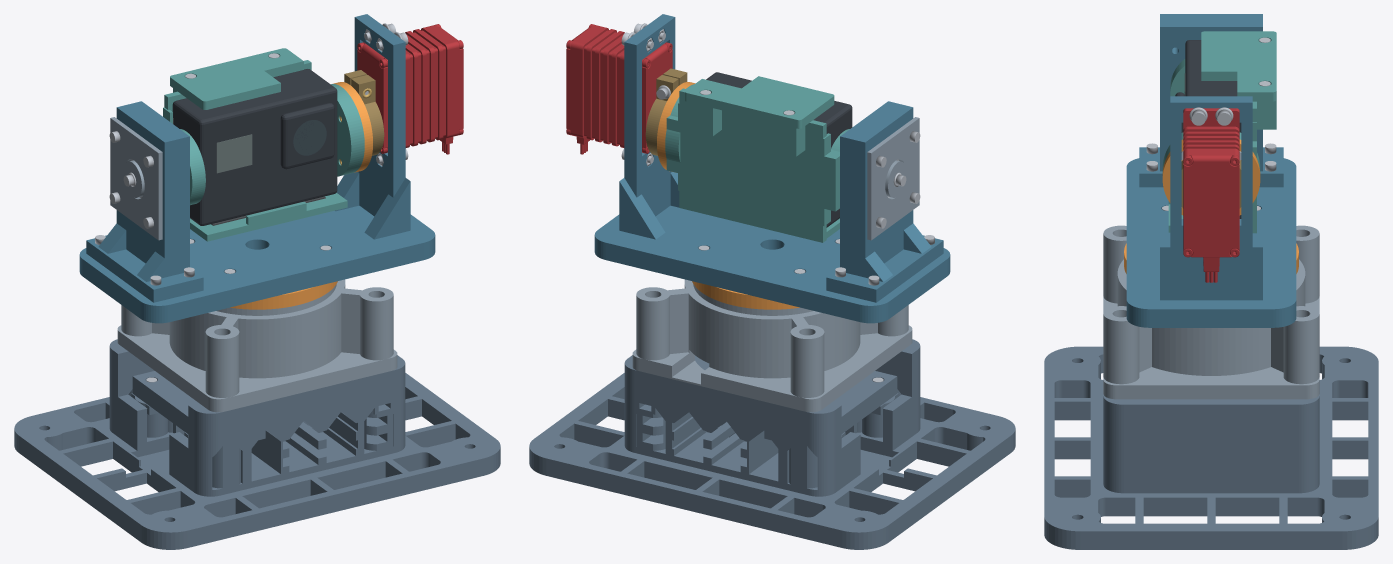
The model's file is mks_gimbal_assembly.glb.
3 renders of one model, left to right at view 1: azimuth 30°, elevation 25°; view 2: azimuth 150°, elevation 25°; view 3: azimuth 270°, elevation 25°, orthographic. The views are drawn at different scales.
Parts seen in each view (by area): view 1: 01_Base, 08_U_Frame, 02_Pan_Bearing_Carrier, HERO8_Approx_Body, 15_Removable_Left_Support, MKS_Tilt, 09_HERO8_Cradle, 10_HERO8_Top_Clamp, 13_Left_Bearing_Cap, HERO8_Approx_Lens_Cover, 16_Pan_Front_Mount_Bridge, 12_Tilt_Clamp_Collar (+5 smaller); view 2: 01_Base, 08_U_Frame, 02_Pan_Bearing_Carrier, 09_HERO8_Cradle, 15_Removable_Left_Support, MKS_Tilt, 10_HERO8_Top_Clamp, 13_Left_Bearing_Cap, 16_Pan_Front_Mount_Bridge, HERO8_Approx_Body, 12_Tilt_Clamp_Collar, 05_Pan_25T_Hub (+2 smaller); view 3: 01_Base, 08_U_Frame, 02_Pan_Bearing_Carrier, MKS_Tilt, 15_Removable_Left_Support, 10_HERO8_Top_Clamp, 09_HERO8_Cradle, HERO8_Approx_Body, 11_Tilt_25T_Hub.
Boxes of the visible parts, x1=… form: 01_Base: x1=14, y1=339, x2=500, y2=549; 08_U_Frame: x1=79, y1=14, x2=435, y2=323; 02_Pan_Bearing_Carrier: x1=117, y1=279, x2=397, y2=412; HERO8_Approx_Body: x1=172, y1=69, x2=337, y2=225; 15_Removable_Left_Support: x1=86, y1=101, x2=203, y2=302; MKS_Tilt: x1=357, y1=24, x2=463, y2=154; 09_HERO8_Cradle: x1=163, y1=60, x2=364, y2=241; 10_HERO8_Top_Clamp: x1=170, y1=48, x2=303, y2=109; 13_Left_Bearing_Cap: x1=110, y1=117, x2=162, y2=240; HERO8_Approx_Lens_Cover: x1=280, y1=103, x2=334, y2=169; 16_Pan_Front_Mount_Bridge: x1=132, y1=371, x2=198, y2=433; 12_Tilt_Clamp_Collar: x1=344, y1=70, x2=384, y2=155; 01_Base: x1=529, y1=339, x2=1015, y2=549; 08_U_Frame: x1=594, y1=14, x2=950, y2=323; 02_Pan_Bearing_Carrier: x1=632, y1=279, x2=912, y2=412; 09_HERO8_Cradle: x1=665, y1=84, x2=849, y2=242; 15_Removable_Left_Support: x1=826, y1=101, x2=943, y2=302; MKS_Tilt: x1=566, y1=24, x2=672, y2=154; 10_HERO8_Top_Clamp: x1=685, y1=76, x2=834, y2=128; 13_Left_Bearing_Cap: x1=867, y1=117, x2=919, y2=240; 16_Pan_Front_Mount_Bridge: x1=831, y1=371, x2=897, y2=433; HERO8_Approx_Body: x1=706, y1=72, x2=852, y2=227; 12_Tilt_Clamp_Collar: x1=645, y1=68, x2=687, y2=155; 05_Pan_25T_Hub: x1=692, y1=281, x2=799, y2=309; 01_Base: x1=1044, y1=346, x2=1378, y2=549; 08_U_Frame: x1=1126, y1=96, x2=1296, y2=327; 02_Pan_Bearing_Carrier: x1=1103, y1=225, x2=1319, y2=399; MKS_Tilt: x1=1183, y1=108, x2=1239, y2=282; 15_Removable_Left_Support: x1=1139, y1=14, x2=1283, y2=187; 10_HERO8_Top_Clamp: x1=1201, y1=31, x2=1276, y2=101; 09_HERO8_Cradle: x1=1162, y1=59, x2=1276, y2=233; HERO8_Approx_Body: x1=1185, y1=40, x2=1241, y2=218; 11_Tilt_25T_Hub: x1=1162, y1=139, x2=1260, y2=215.
Size of the model in its own units: 0.1777 by 0.1811 by 0.13.
